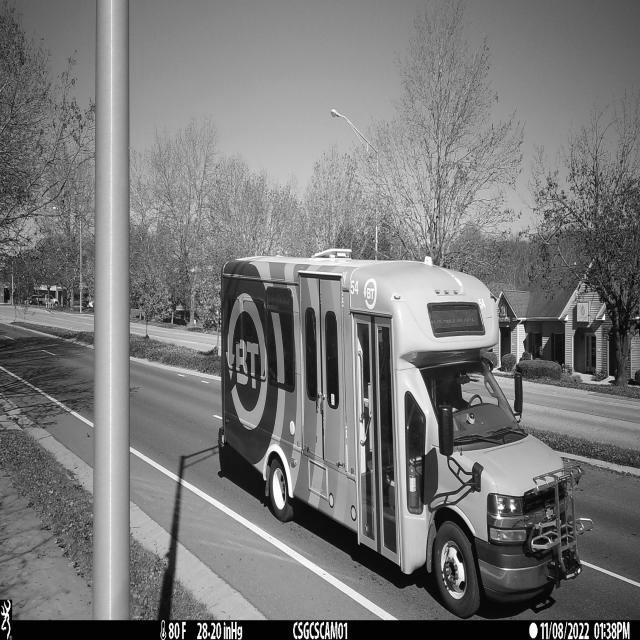Bus- Small: (220, 248, 594, 619)
